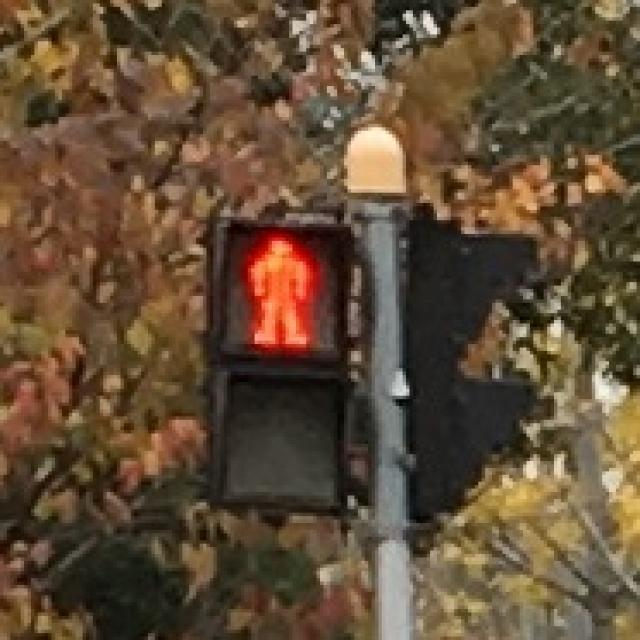red-crossing: (222, 230, 336, 362)
